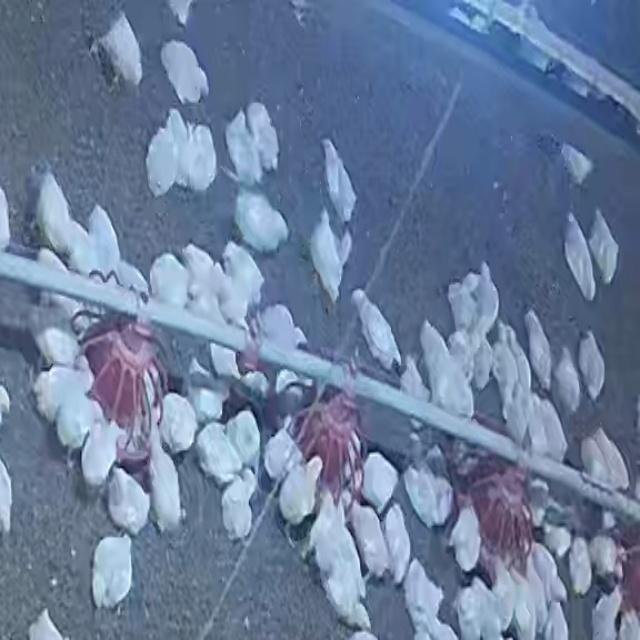chicken: (33, 167, 90, 267), (350, 287, 405, 375), (317, 540, 369, 628), (94, 8, 146, 92), (144, 419, 182, 533), (44, 372, 96, 451), (220, 240, 269, 322), (306, 207, 345, 304), (348, 499, 393, 582), (90, 533, 136, 613), (417, 320, 456, 412), (306, 490, 350, 571), (159, 38, 211, 106), (104, 463, 151, 537), (401, 560, 448, 634), (277, 452, 324, 526), (80, 414, 124, 492), (489, 324, 525, 418), (453, 577, 505, 640), (562, 212, 598, 302), (401, 460, 448, 528), (254, 303, 308, 361), (194, 421, 243, 482), (487, 558, 525, 636), (434, 348, 474, 421), (239, 190, 286, 252), (144, 115, 179, 198), (323, 139, 356, 225), (86, 204, 122, 282), (586, 206, 620, 288), (220, 470, 258, 543), (181, 244, 221, 312), (588, 427, 630, 491), (358, 451, 400, 515), (523, 308, 554, 394), (380, 503, 414, 581), (243, 104, 281, 173), (447, 267, 483, 339), (148, 250, 191, 310), (228, 107, 261, 185), (470, 262, 501, 345), (158, 392, 200, 453), (446, 503, 483, 572), (185, 121, 220, 192), (397, 356, 432, 426), (516, 560, 548, 636), (529, 542, 565, 609), (576, 330, 607, 406), (32, 325, 82, 372), (552, 346, 582, 415), (537, 394, 567, 463), (226, 412, 262, 468), (186, 379, 227, 428), (586, 532, 620, 590), (263, 426, 298, 481), (32, 368, 66, 420), (566, 535, 594, 595), (590, 589, 624, 637), (470, 327, 496, 389), (208, 343, 244, 387), (558, 142, 594, 185), (113, 260, 151, 299), (541, 518, 573, 562), (527, 477, 553, 529), (540, 600, 568, 640), (0, 177, 12, 253)
